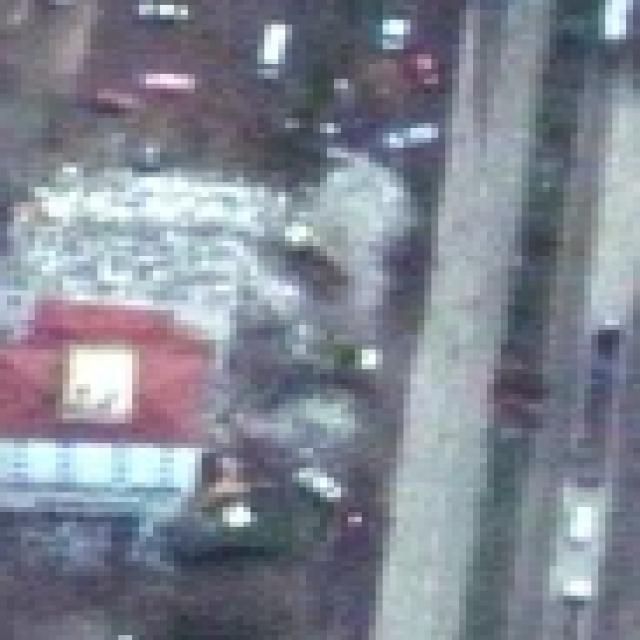Rubble: (10, 170, 286, 328)
